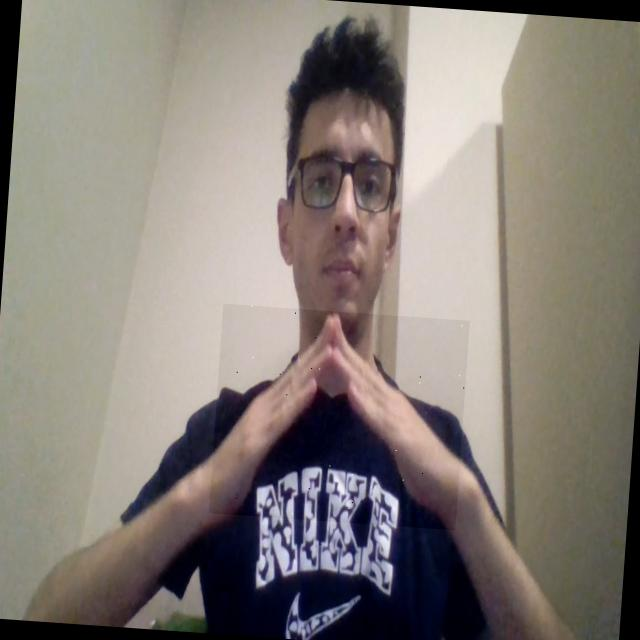house: (208, 303, 470, 530)
